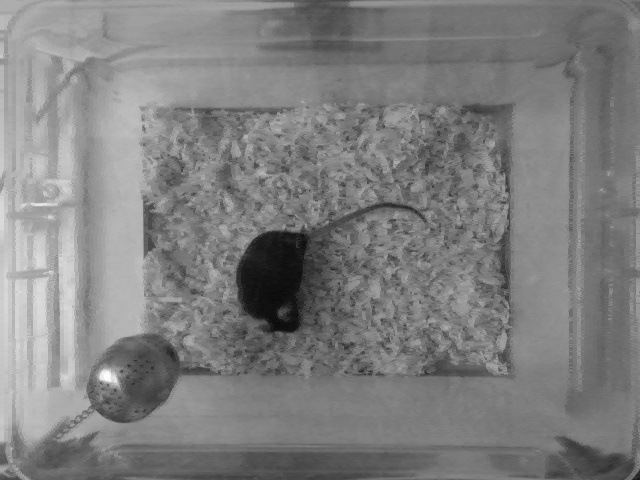mice: (234, 200, 425, 336)
